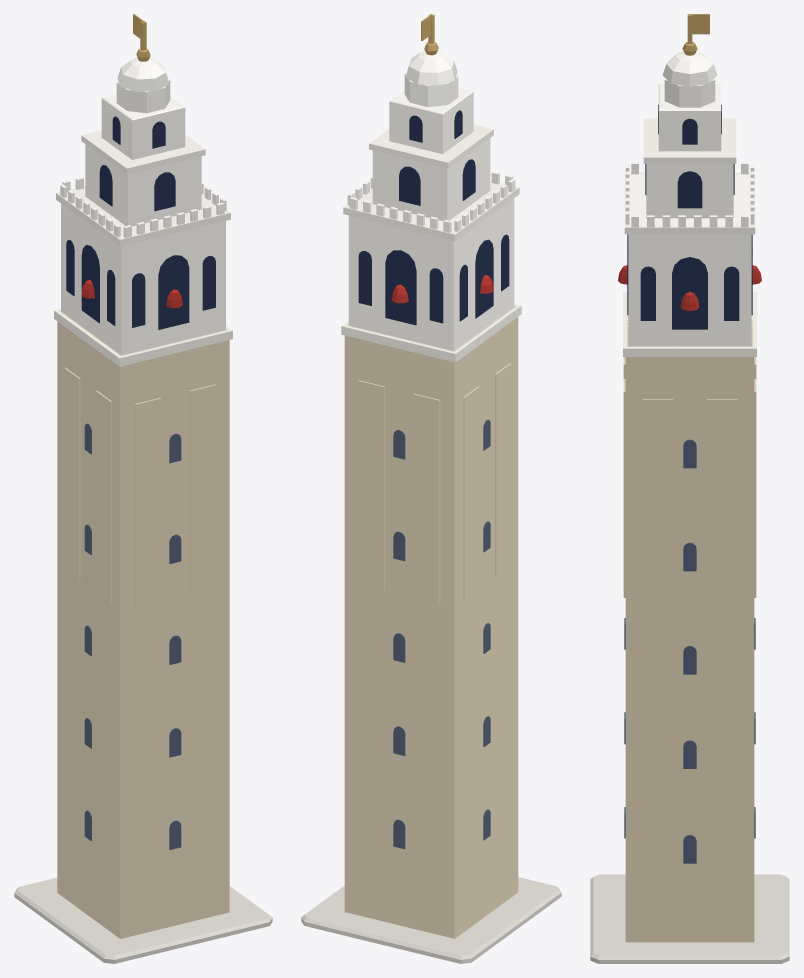
Rendered from seville.glb.
The picture shows the model from 3 angles, left to right: view 1: azimuth 30°, elevation 25°; view 2: azimuth 150°, elevation 25°; view 3: azimuth 270°, elevation 25°; orthographic projection. The views are drawn at different scales.
Visible parts, largest first — view 1: model; view 2: model; view 3: model.
Part boxes in pixels (bbox=[...]): model: bbox=[14, 14, 272, 963]; model: bbox=[301, 14, 561, 963]; model: bbox=[590, 14, 789, 963].
Size of the model in its own units: 21 by 106 by 21.
